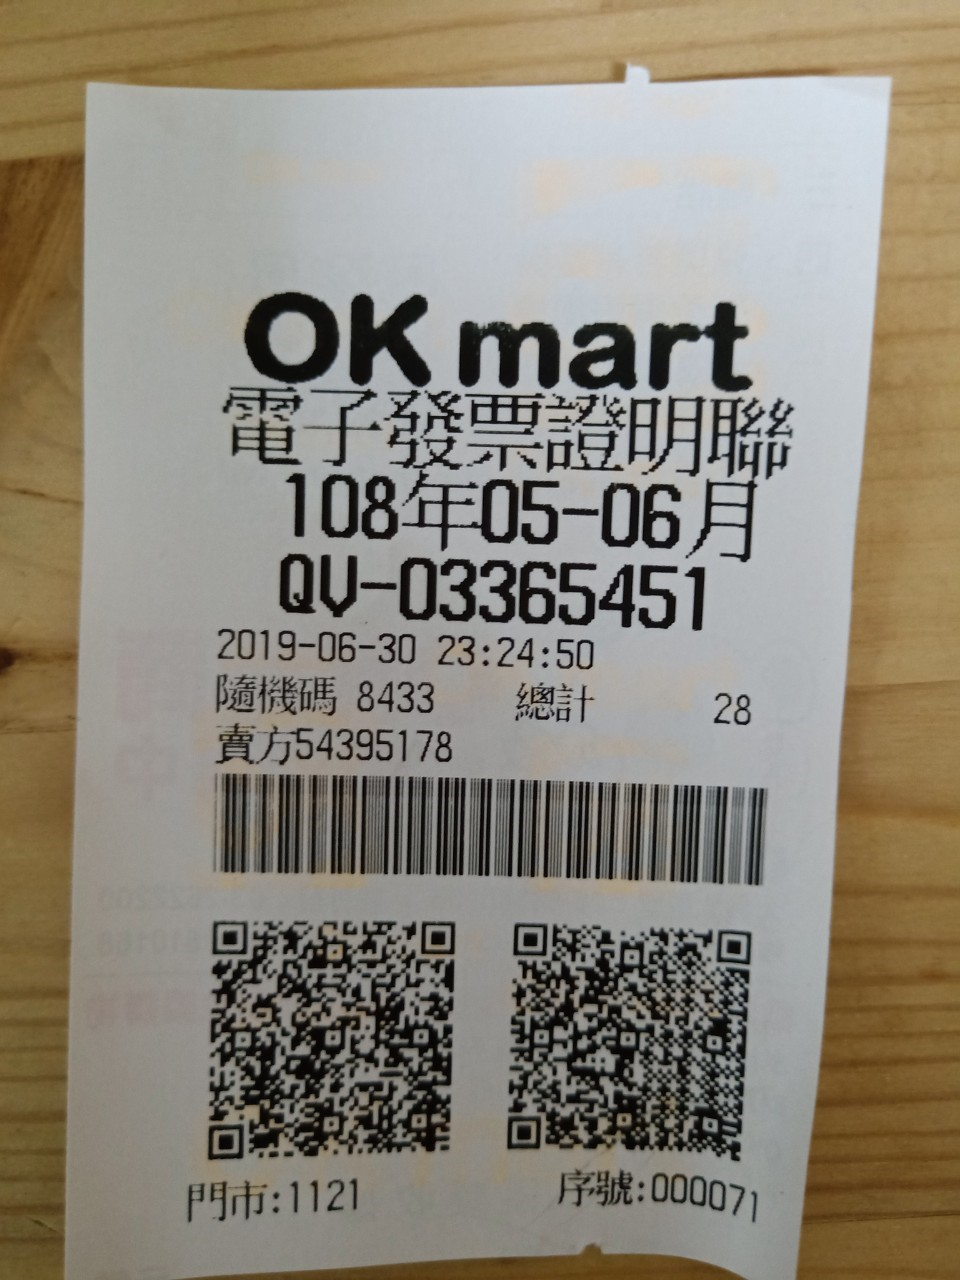Date_New: (280, 467, 759, 562)
Number_New: (396, 553, 713, 638)
